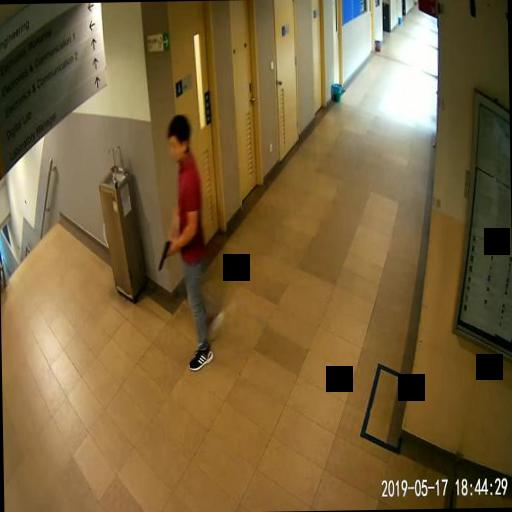Handgun: (156, 236, 174, 268)
